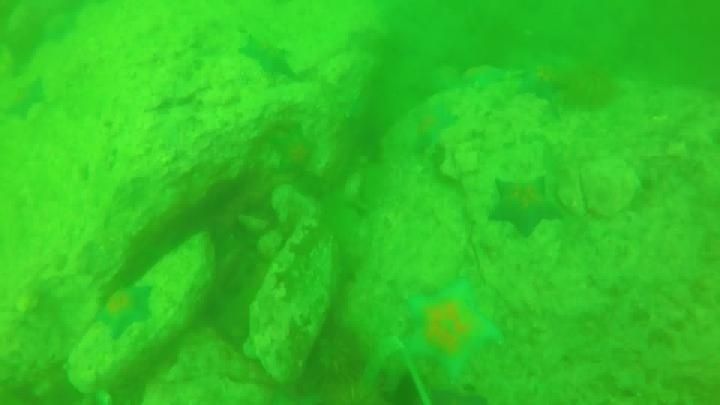echinus: (301, 321, 369, 389), (561, 62, 620, 112)
starfish: (401, 277, 504, 383), (486, 173, 565, 238), (94, 281, 157, 341), (237, 32, 297, 81), (408, 102, 459, 154), (515, 60, 571, 104), (269, 127, 319, 176), (1, 76, 50, 123), (460, 62, 509, 92)
